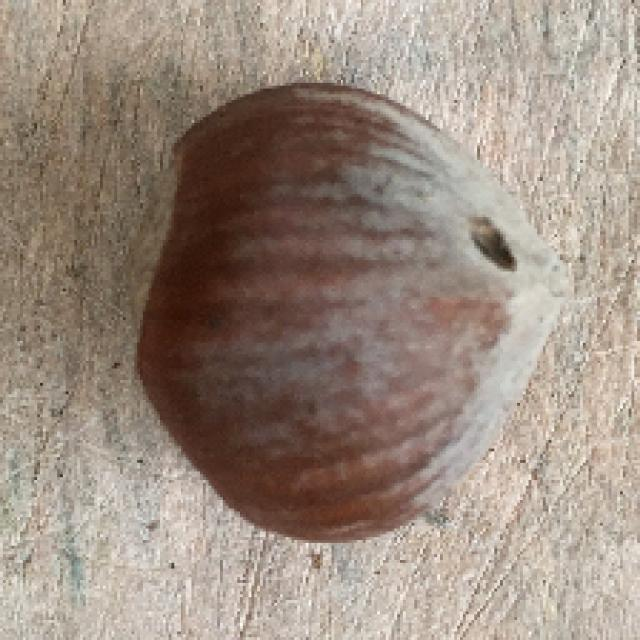damagedHazelnut: (119, 80, 561, 536)
